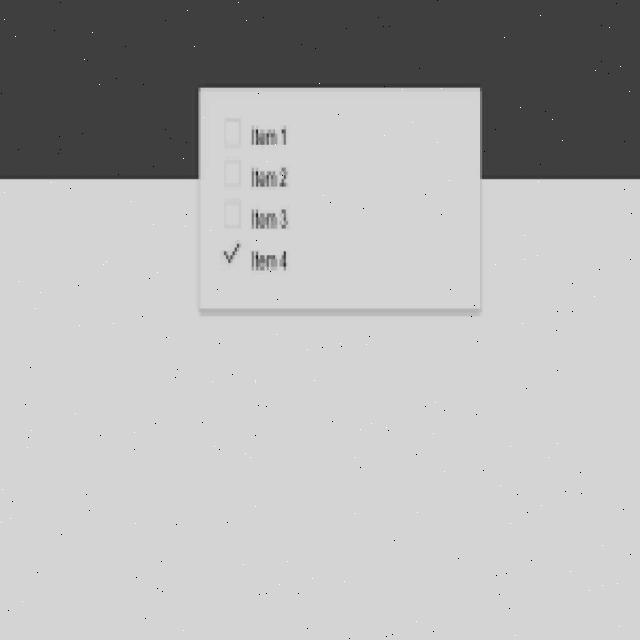checkbox: (218, 234, 244, 278), (218, 156, 248, 188), (220, 117, 248, 150), (218, 194, 246, 227)
label: (250, 204, 294, 232), (250, 163, 294, 190), (249, 246, 290, 274), (251, 122, 289, 148)
